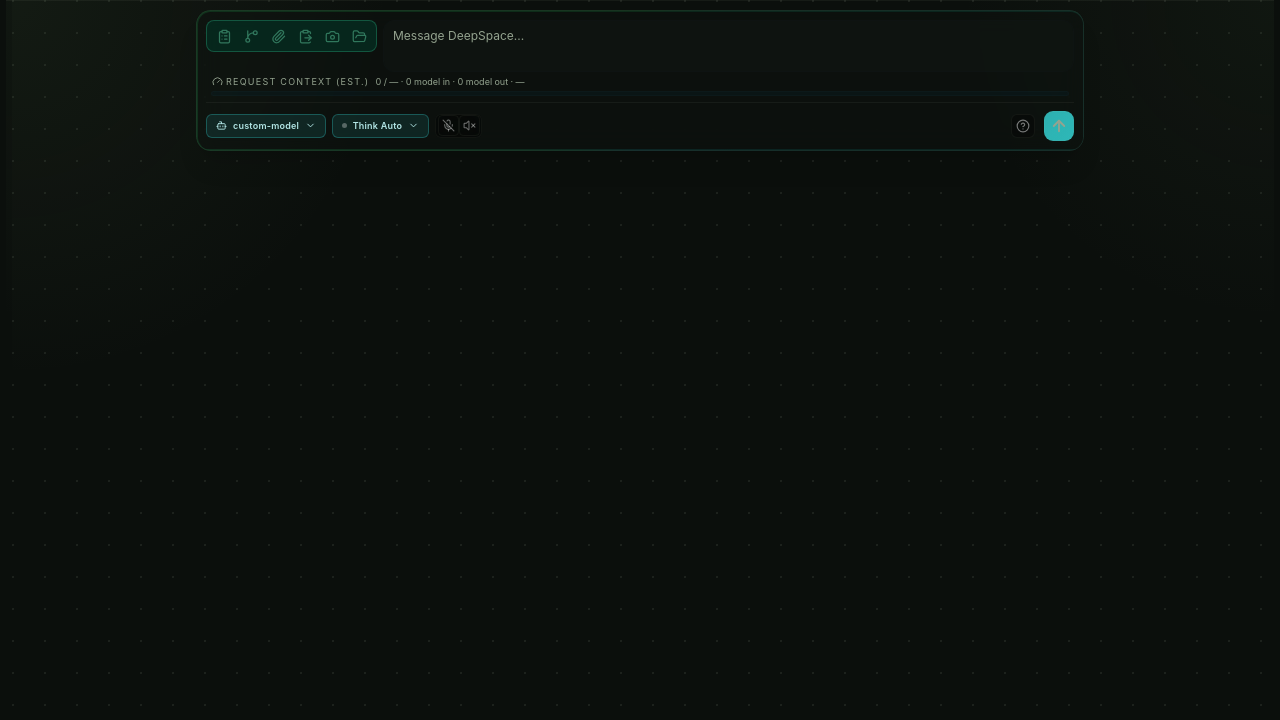
Scenario: custom provider reasoning options › keeps unknown models on their provider default instead of inventing effort levels
The image size is (1280, 720).
Click the button with aria-label "Choose reasoning effort".
click(381, 126)  # box 332,114 -> 429,138
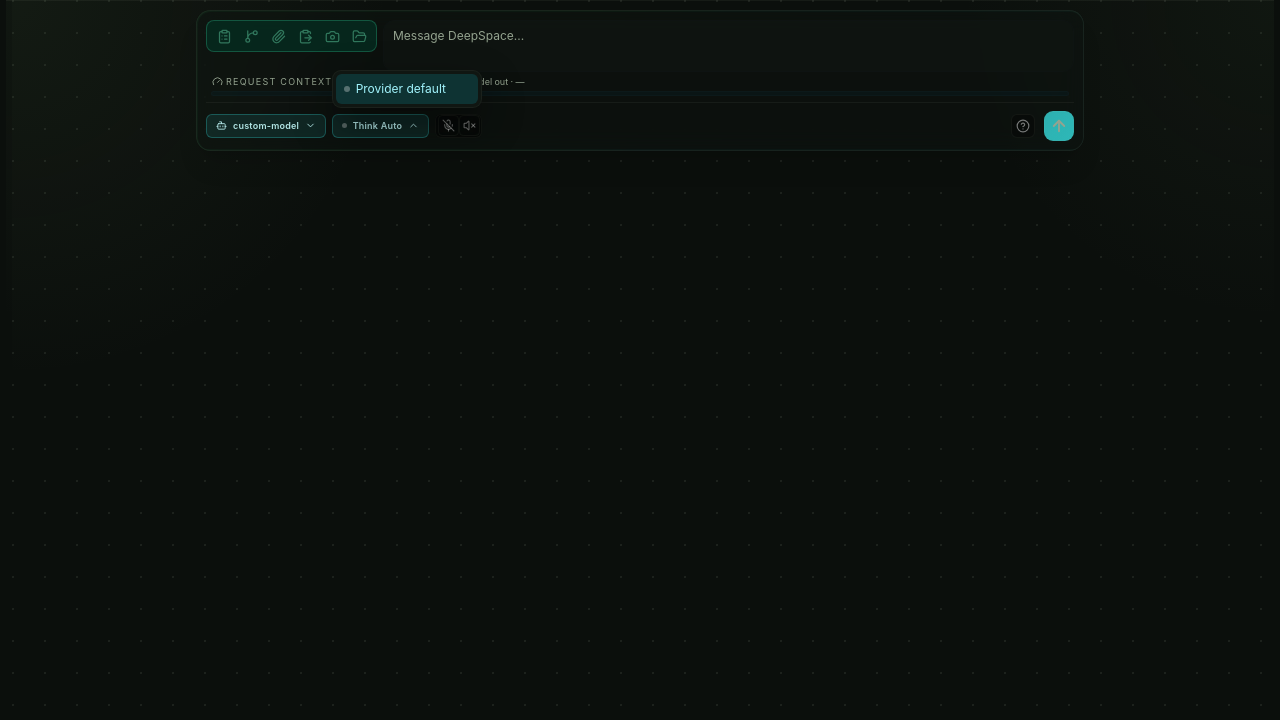
Result: the button "Provider default" is shown at 336,74 -> 478,104
